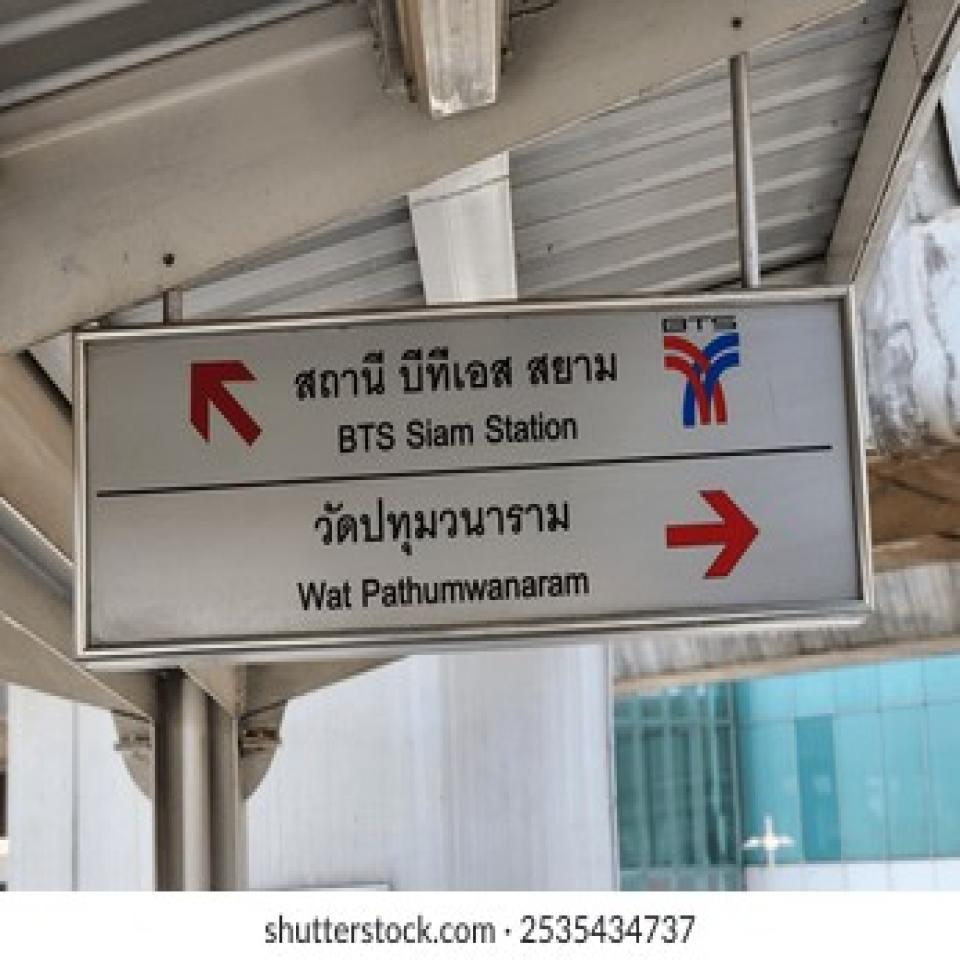signage: (293, 314, 744, 451)
